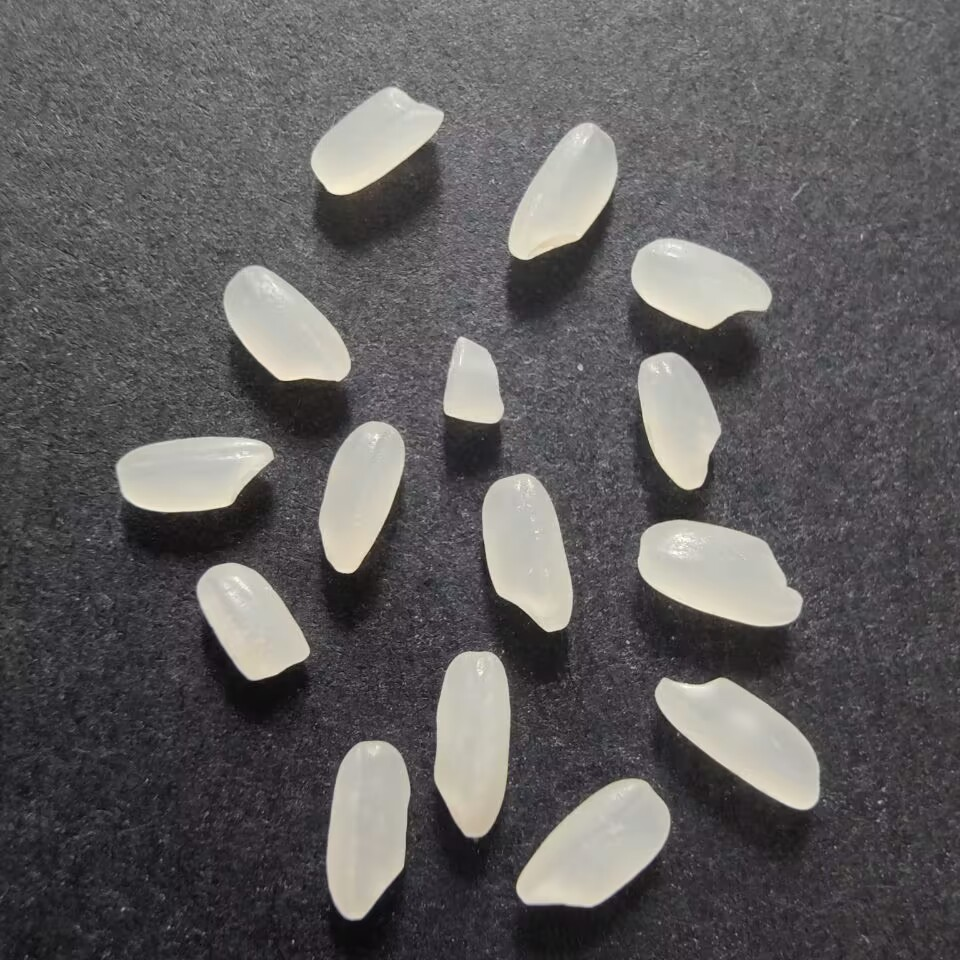broken: (191, 557, 316, 685), (437, 328, 513, 430)
rice: (650, 664, 830, 817), (509, 772, 670, 919), (630, 516, 805, 629), (500, 114, 626, 266), (300, 81, 450, 202), (428, 643, 519, 842), (476, 469, 581, 639), (218, 260, 356, 387), (323, 736, 414, 928), (623, 231, 775, 333), (314, 416, 409, 579), (111, 430, 281, 517), (632, 346, 730, 496)
